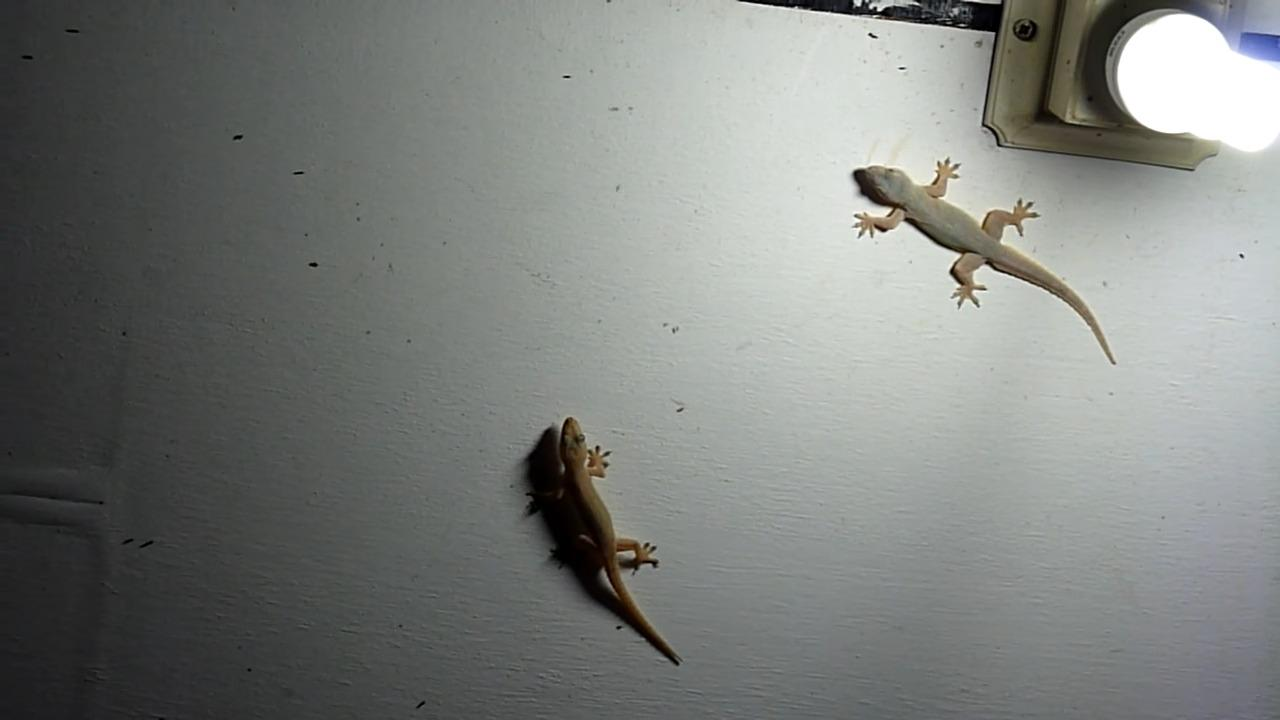lizard: (841, 155, 1147, 372), (501, 411, 750, 669)
